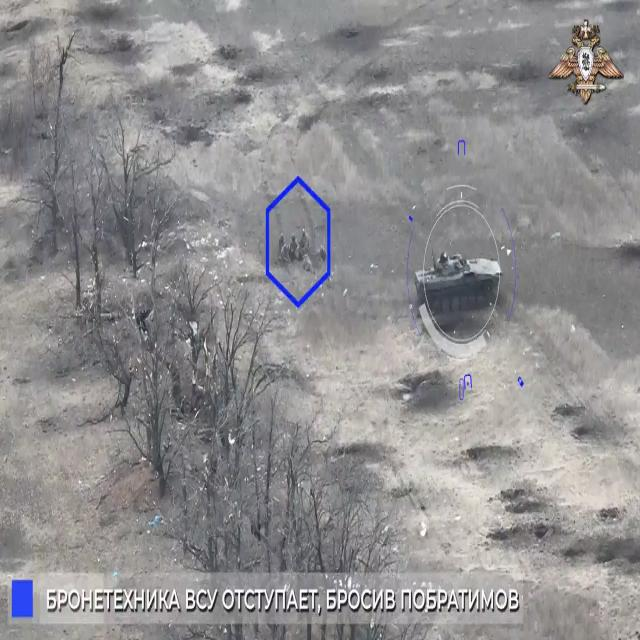apc: (415, 254, 502, 316)
